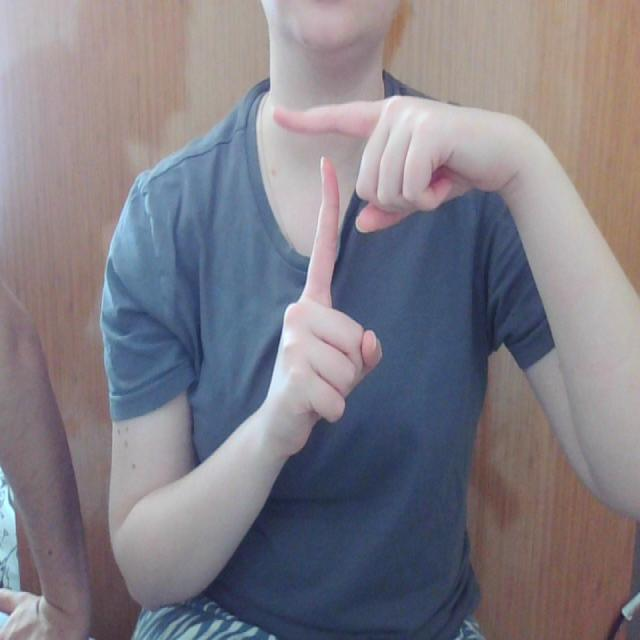Tesekkurler: (261, 76, 397, 326)
